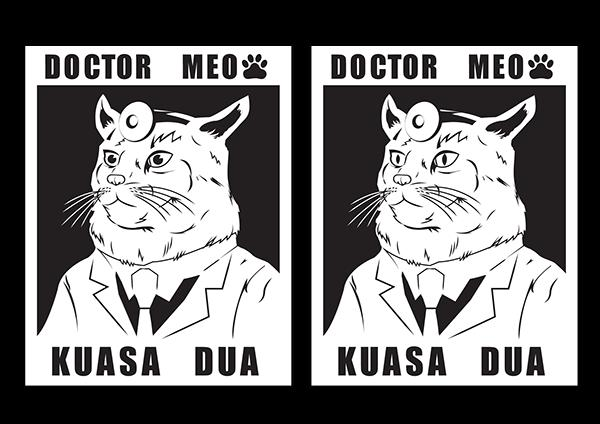cat: (38, 94, 295, 349), (328, 97, 572, 355)
